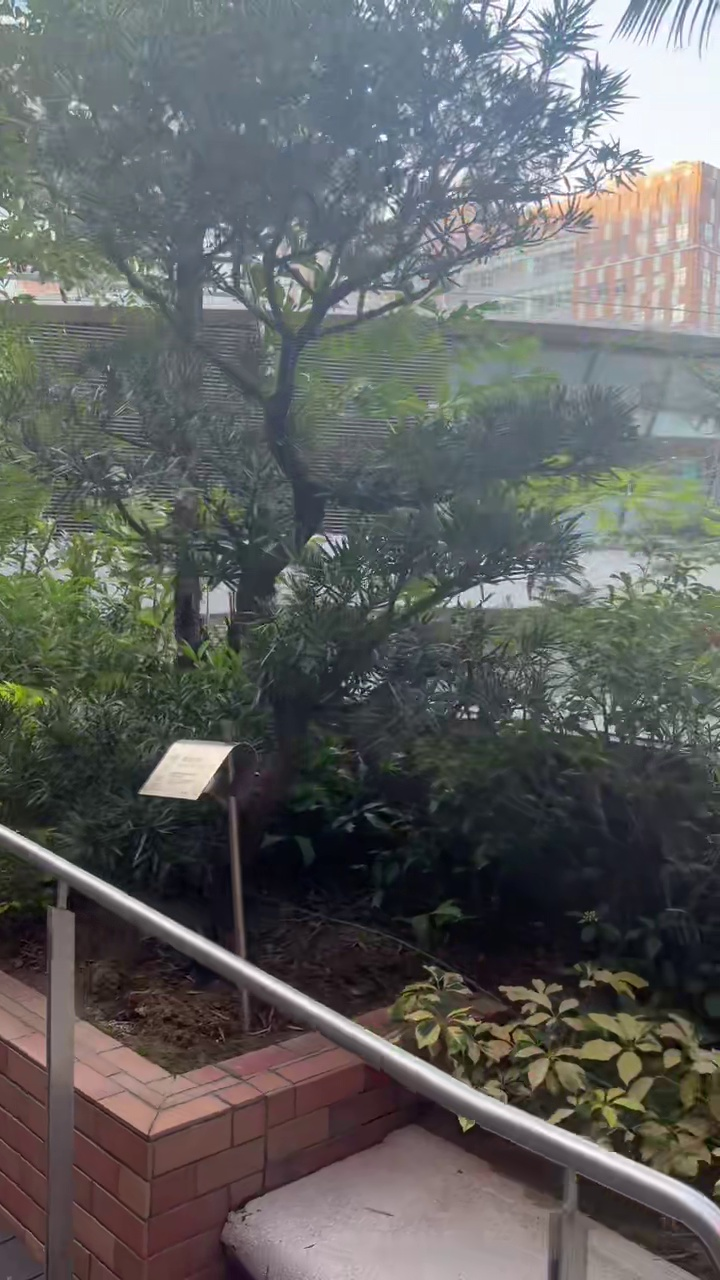Podocarpus macrophyllus: (0, 0, 641, 856)
